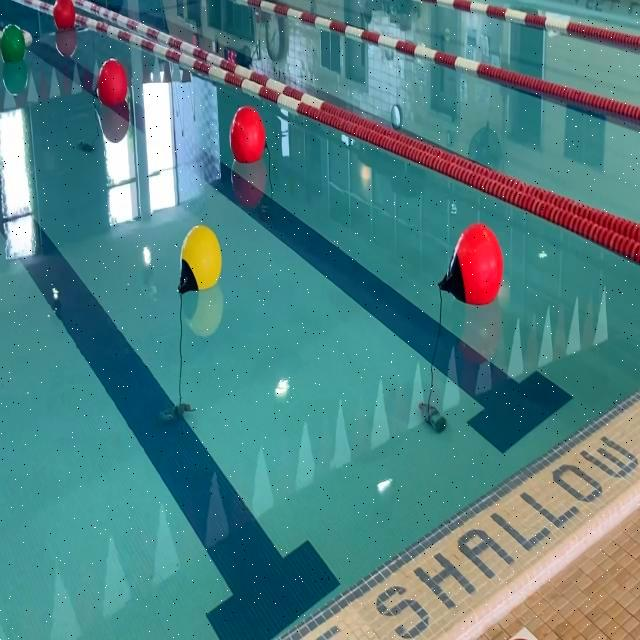buoy: (438, 220, 504, 308), (178, 223, 222, 296), (230, 104, 266, 166), (96, 58, 129, 108), (1, 21, 27, 66), (54, 0, 76, 32)
